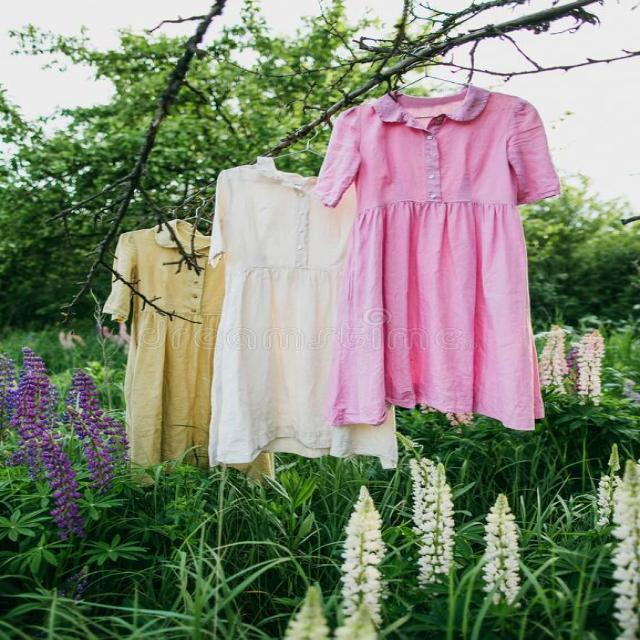clothes: (113, 82, 527, 470)
